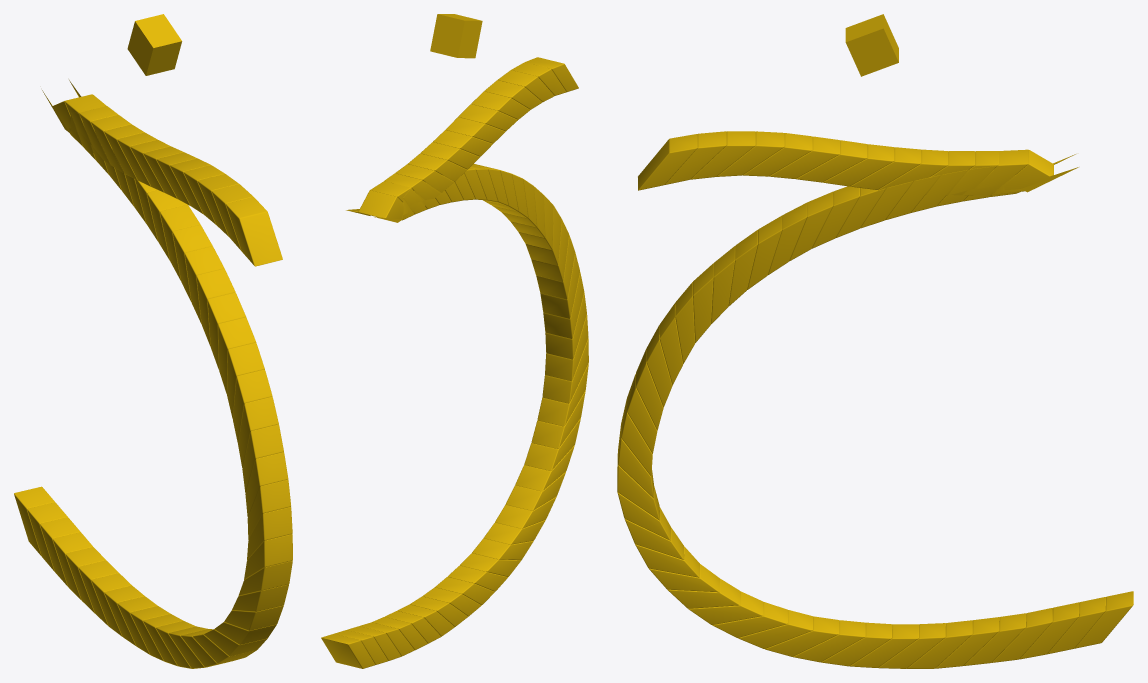
Rendered from kho.fbx.
3 views of the same model, side by side, from view 1: azimuth 30°, elevation 25°; view 2: azimuth 150°, elevation 25°; view 3: azimuth 270°, elevation 25° (orthographic). The views are drawn at different scales.
Parts seen in each view (by area): view 1: Cube, Cube.001; view 2: Cube, Cube.001; view 3: Cube, Cube.001.
Boxes of the visible parts, left/top/right/bottom form: Cube: left=14, top=80, right=292, bottom=668; Cube.001: left=127, top=14, right=182, bottom=75; Cube: left=321, top=57, right=588, bottom=668; Cube.001: left=430, top=14, right=482, bottom=58; Cube: left=617, top=131, right=1133, bottom=668; Cube.001: left=845, top=14, right=898, bottom=76.
Size of the model in its own units: 52.78 by 1036 by 756.
